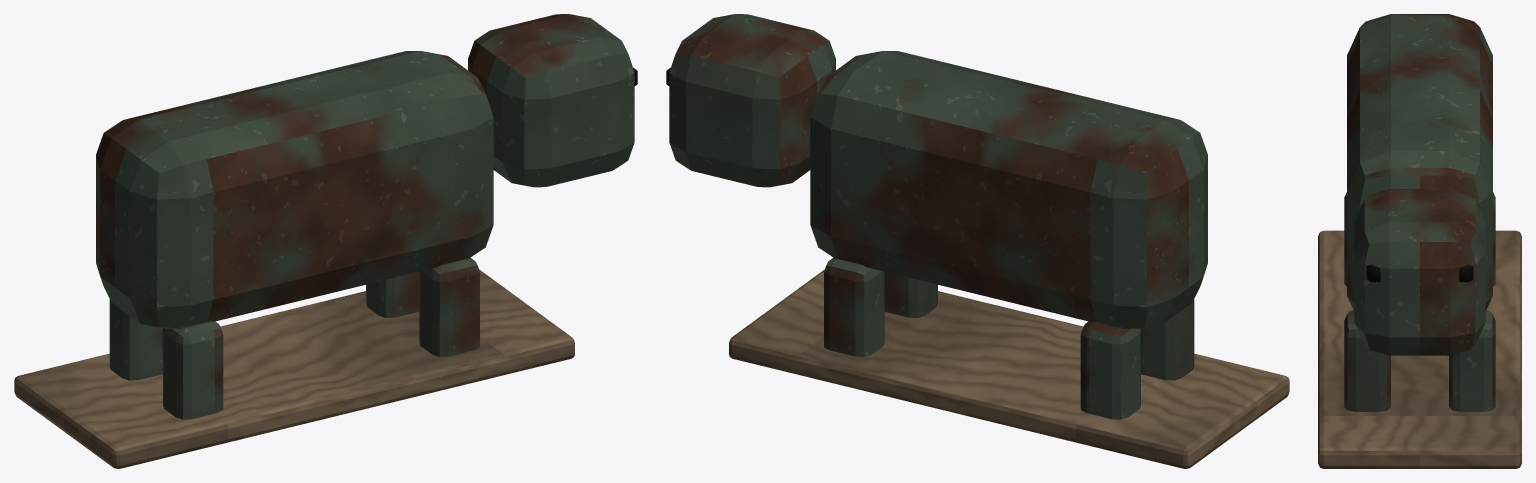
The model's file is TY10_wooden_toy_animal_v4.glb.
3 views of the same model, side by side, from view 1: azimuth 30°, elevation 25°; view 2: azimuth 150°, elevation 25°; view 3: azimuth 270°, elevation 25° (orthographic).
Visible parts, largest first — view 1: TY10_wooden_toy_animal_v4; view 2: TY10_wooden_toy_animal_v4; view 3: TY10_wooden_toy_animal_v4.
Boxes of the visible parts, x1,y1,x2,y2 form: TY10_wooden_toy_animal_v4: (14,14,637,468); TY10_wooden_toy_animal_v4: (666,14,1289,468); TY10_wooden_toy_animal_v4: (1318,14,1521,468).
Size of the model in its own units: 0.2 by 0.0977 by 0.0651.
Materials: 3 (3 with a texture image).
